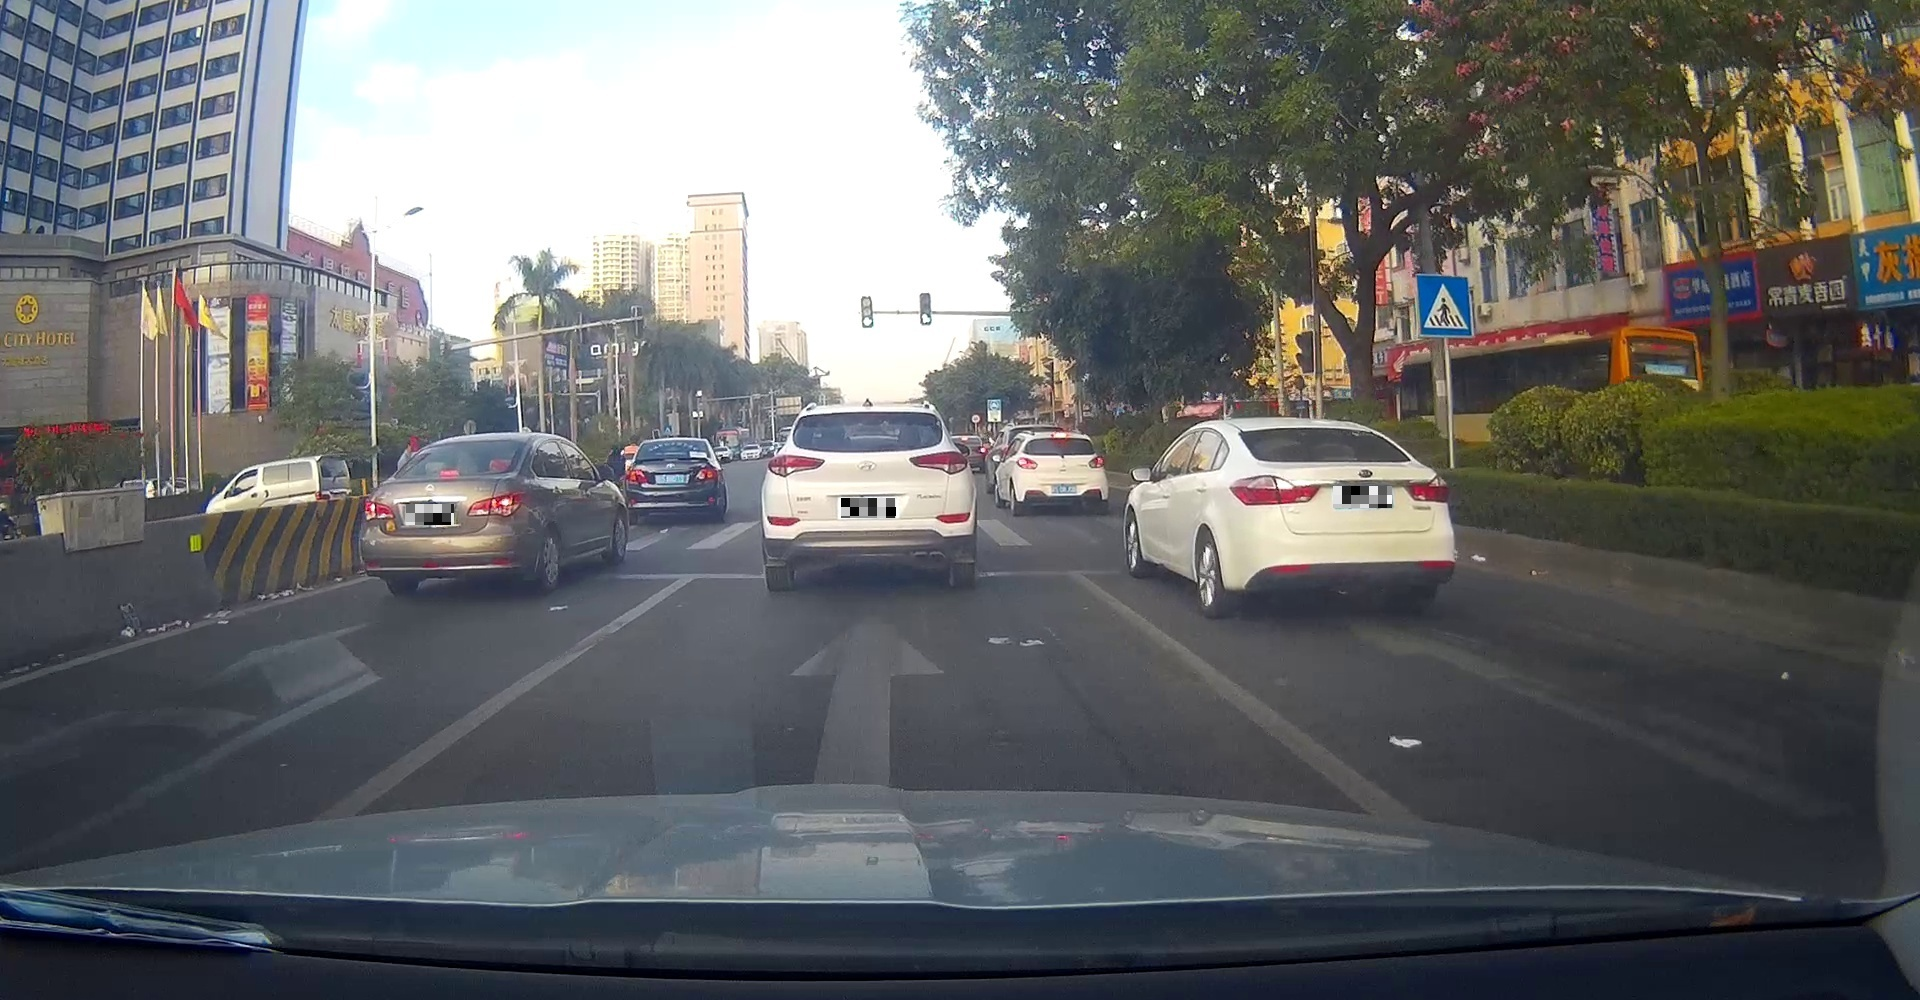L_light: (1229, 475, 1321, 506), (764, 453, 825, 477), (361, 499, 395, 522), (626, 470, 648, 484), (1017, 458, 1037, 470)
R_light: (908, 449, 969, 475), (466, 494, 526, 516), (1406, 476, 1451, 504), (693, 466, 721, 481), (1088, 456, 1107, 468)
T_light: (1305, 426, 1343, 437), (439, 470, 463, 477), (852, 412, 883, 418), (662, 452, 686, 456), (1051, 438, 1069, 442)
day-brake: (1016, 437, 1109, 515)
day-no: (1228, 423, 1457, 615), (761, 410, 977, 590), (359, 437, 530, 591), (623, 438, 725, 522)
plate_1: (406, 504, 455, 525)
plate_2: (841, 497, 897, 518)
plate_3: (1333, 486, 1392, 508)
